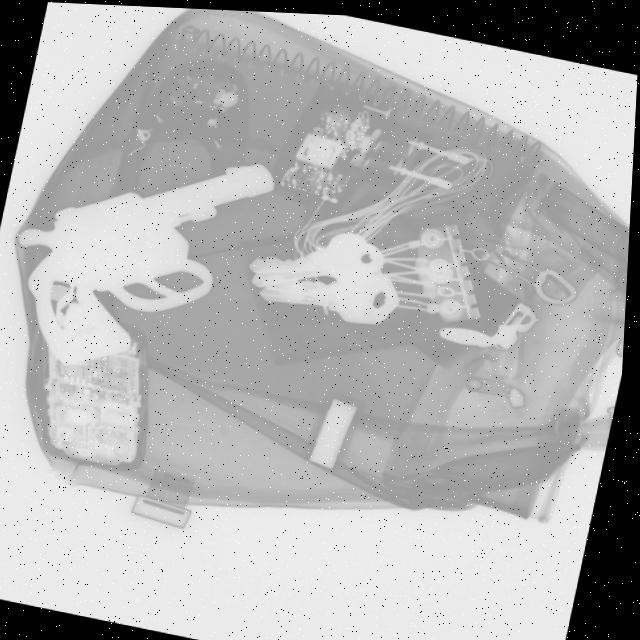grenade: (24, 315, 172, 492)
